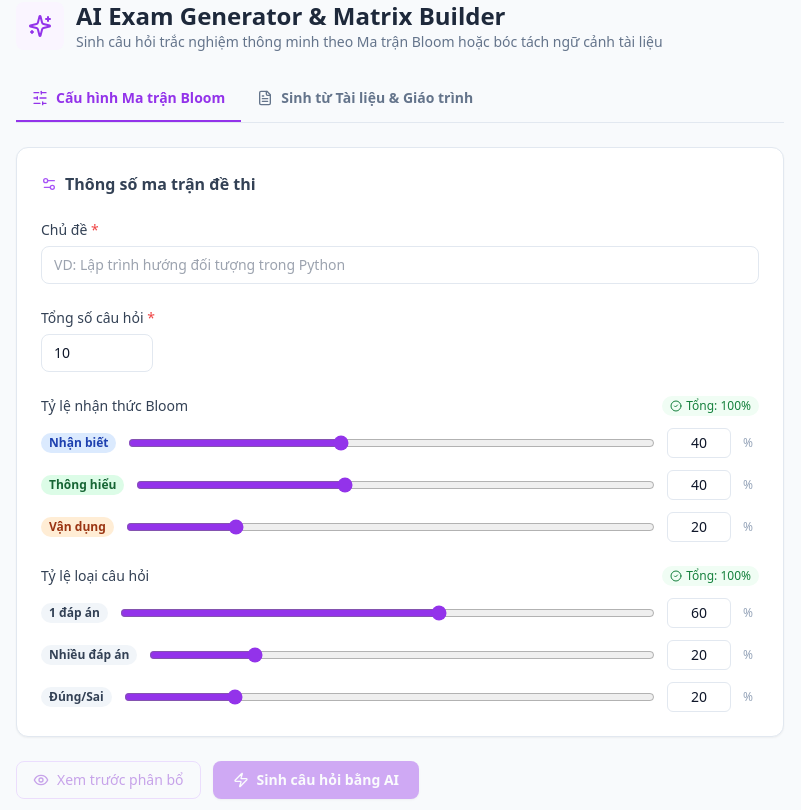
Scenario: AiGenPage — Document Context Tab (Issue #33) › switches to document tab when clicking 'Sinh từ Tài liệu & Giáo trình'
Click the button "Sinh từ Tài liệu & Giáo trình" at (365,99), box [241,76,489,122]
(page scrolled)
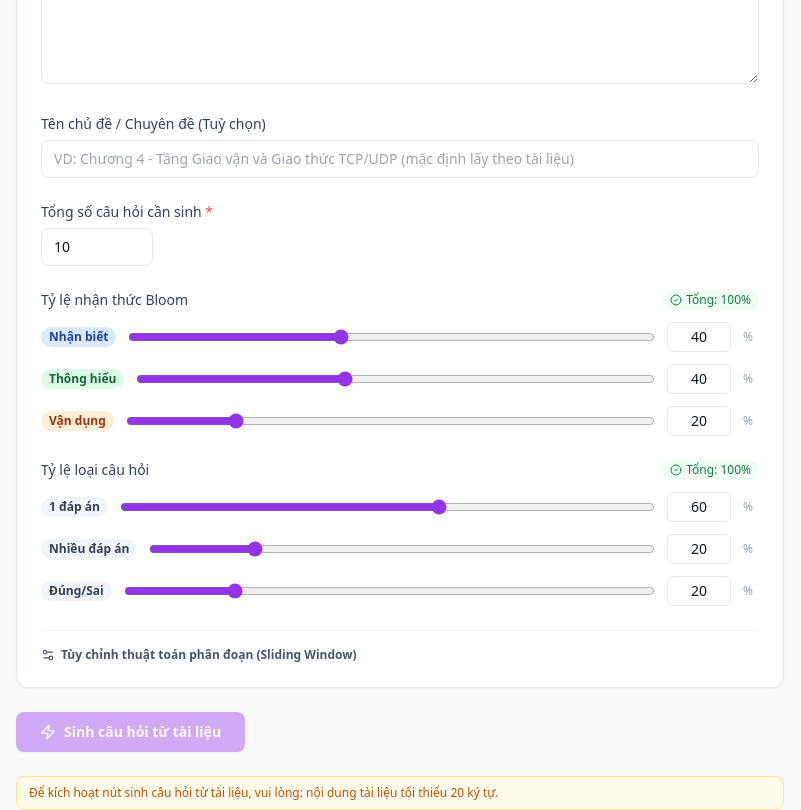
Result: the button "Sinh câu hỏi từ tài liệu" is shown at [16,712,245,752]
